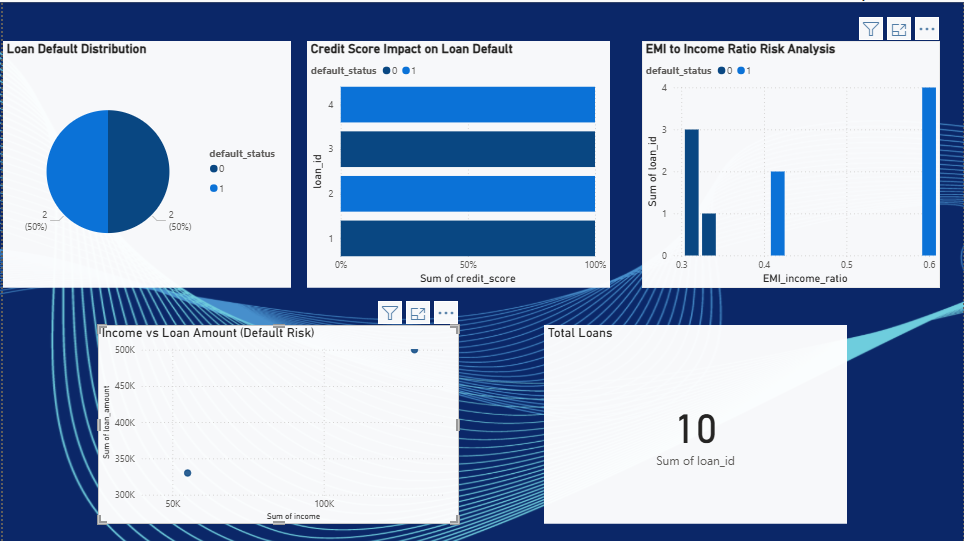

Layout of this report page (visuals, bound fields, positions):
{"tool":"powerbi","page":{"name":"Page 1","canvas":[1280,720],"ordinal":0},"visuals":[{"type":"pieChart","title":"Loan Default Distribution","fields":{"Y":["CountNonNull(loan_dashboard_data.loan_id)"],"Category":["loan_dashboard_data.default_status"]},"box":[15.6,5.6,352.2,216.7],"z":0},{"type":"hundredPercentStackedBarChart","title":"Credit Score Impact on Loan Default","fields":{"Y":["Sum(loan_dashboard_data.credit_score)"],"Category":["loan_dashboard_data.loan_id"],"Series":["loan_dashboard_data.default_status"]},"box":[400,5.6,403.3,216.7],"z":1000},{"type":"columnChart","title":"EMI to Income Ratio Risk Analysis","fields":{"Category":["loan_dashboard_data.EMI_income_ratio"],"Y":["Sum(loan_dashboard_data.loan_id)"],"Series":["loan_dashboard_data.default_status"]},"box":[837.8,5.6,350,216.7],"z":1001},{"type":"scatterChart","title":"Income vs Loan Amount (Default Risk)","fields":{"X":["Sum(loan_dashboard_data.income)"],"Y":["Sum(loan_dashboard_data.loan_amount)"],"Category":["loan_dashboard_data.default_status"]},"box":[158.9,247.8,481.1,224.4],"z":1002},{"type":"card","title":"Total Loans","fields":{"Values":["Sum(loan_dashboard_data.loan_id)"]},"box":[696.7,257.8,327.8,214.4],"z":1003}]}

Visuals, with their boxes in screenshot pixels (x1, y1, x2, y2), scaled from the page's 1280x720 canvas onto the 964x541 screenshot:
"Loan Default Distribution" pieChart: bbox=(12, 4, 277, 167)
"Credit Score Impact on Loan Default" hundredPercentStackedBarChart: bbox=(301, 4, 605, 167)
"EMI to Income Ratio Risk Analysis" columnChart: bbox=(631, 4, 895, 167)
"Income vs Loan Amount (Default Risk)" scatterChart: bbox=(120, 186, 482, 355)
"Total Loans" card: bbox=(525, 194, 772, 355)
